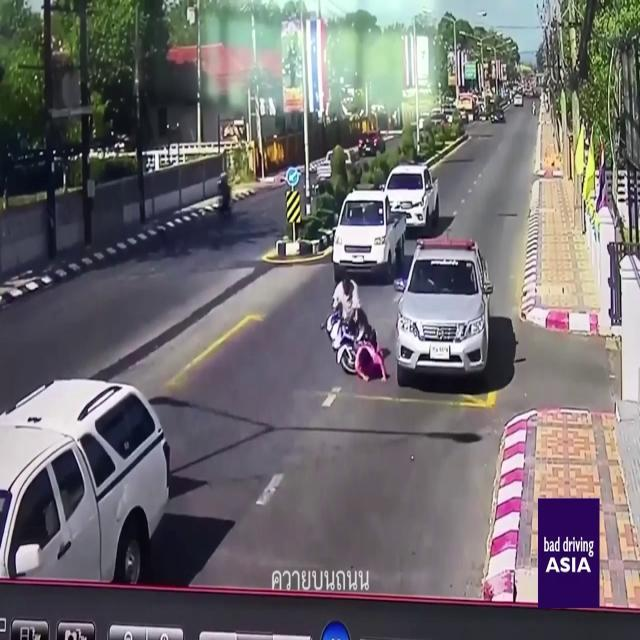multiple_accident: (308, 225, 522, 402)
normal: (302, 138, 442, 283)
